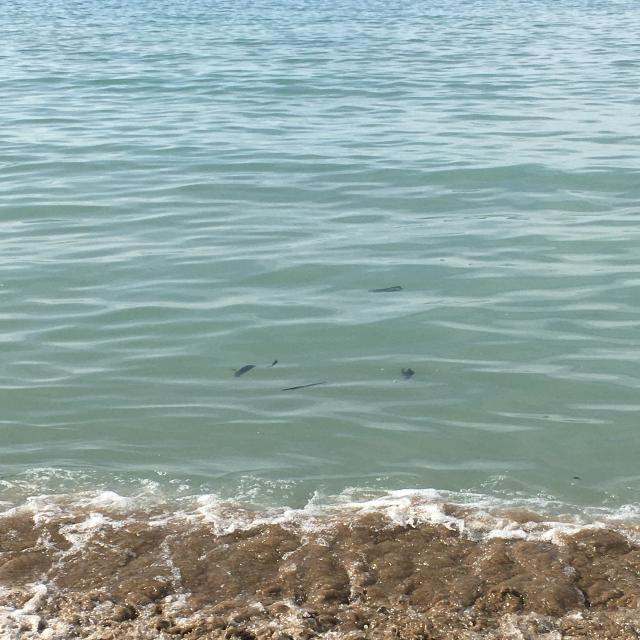Plastic bag: (368, 283, 406, 297), (227, 362, 258, 378), (398, 368, 417, 382)
